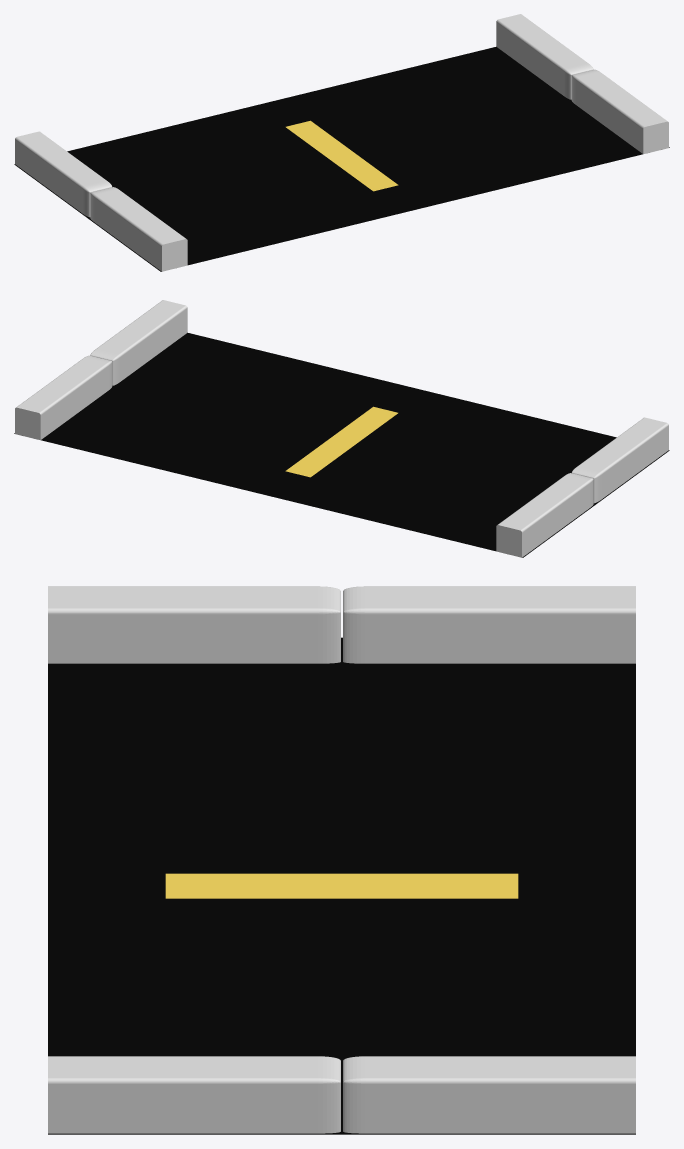
The model's file is platform.glb.
The picture shows the model from 3 angles, top to bottom: view 1: azimuth 30°, elevation 25°; view 2: azimuth 150°, elevation 25°; view 3: azimuth 270°, elevation 25°; orthographic projection. The views are drawn at different scales.
Visible parts, largest first — view 1: Куб, Куб.001, Куб.003, Куб.004, Куб.002; view 2: Куб, Куб.002, Куб.004, Куб.003, Куб.001; view 3: Куб, Куб.001, Куб.002, Куб.003, Куб.004.
Part boxes in pixels (x1,y1,x2,y2): Куб: (14, 46, 669, 271); Куб.001: (571, 69, 668, 154); Куб.003: (90, 187, 187, 271); Куб.004: (15, 131, 112, 217); Куб.002: (496, 14, 593, 99); Куб: (14, 332, 669, 557); Куб.002: (15, 355, 112, 440); Куб.004: (496, 473, 593, 557); Куб.003: (571, 417, 668, 503); Куб.001: (90, 300, 187, 385); Куб: (48, 637, 635, 1134); Куб.001: (48, 1056, 340, 1133); Куб.002: (343, 1056, 635, 1133); Куб.003: (48, 586, 340, 663); Куб.004: (343, 586, 635, 663).
Size of the model in its own units: 10 by 0.5057 by 5.
